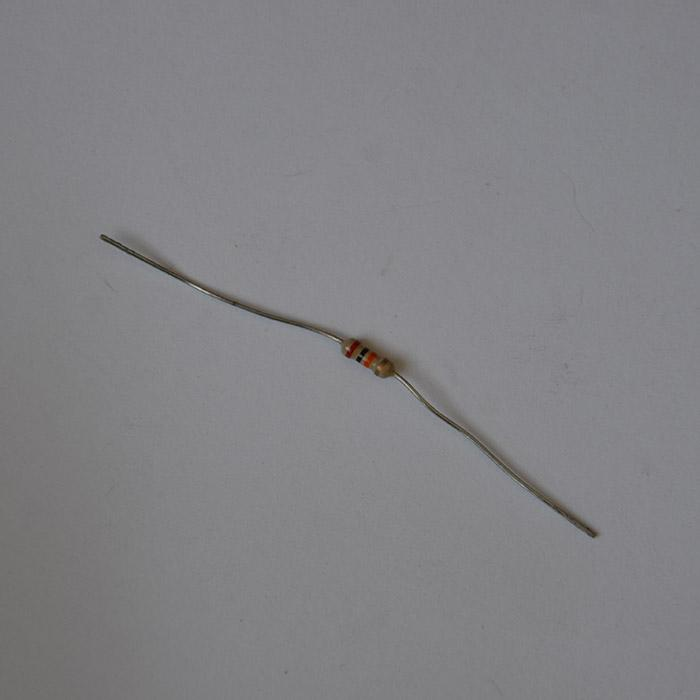resistor: (339, 336, 395, 379)
